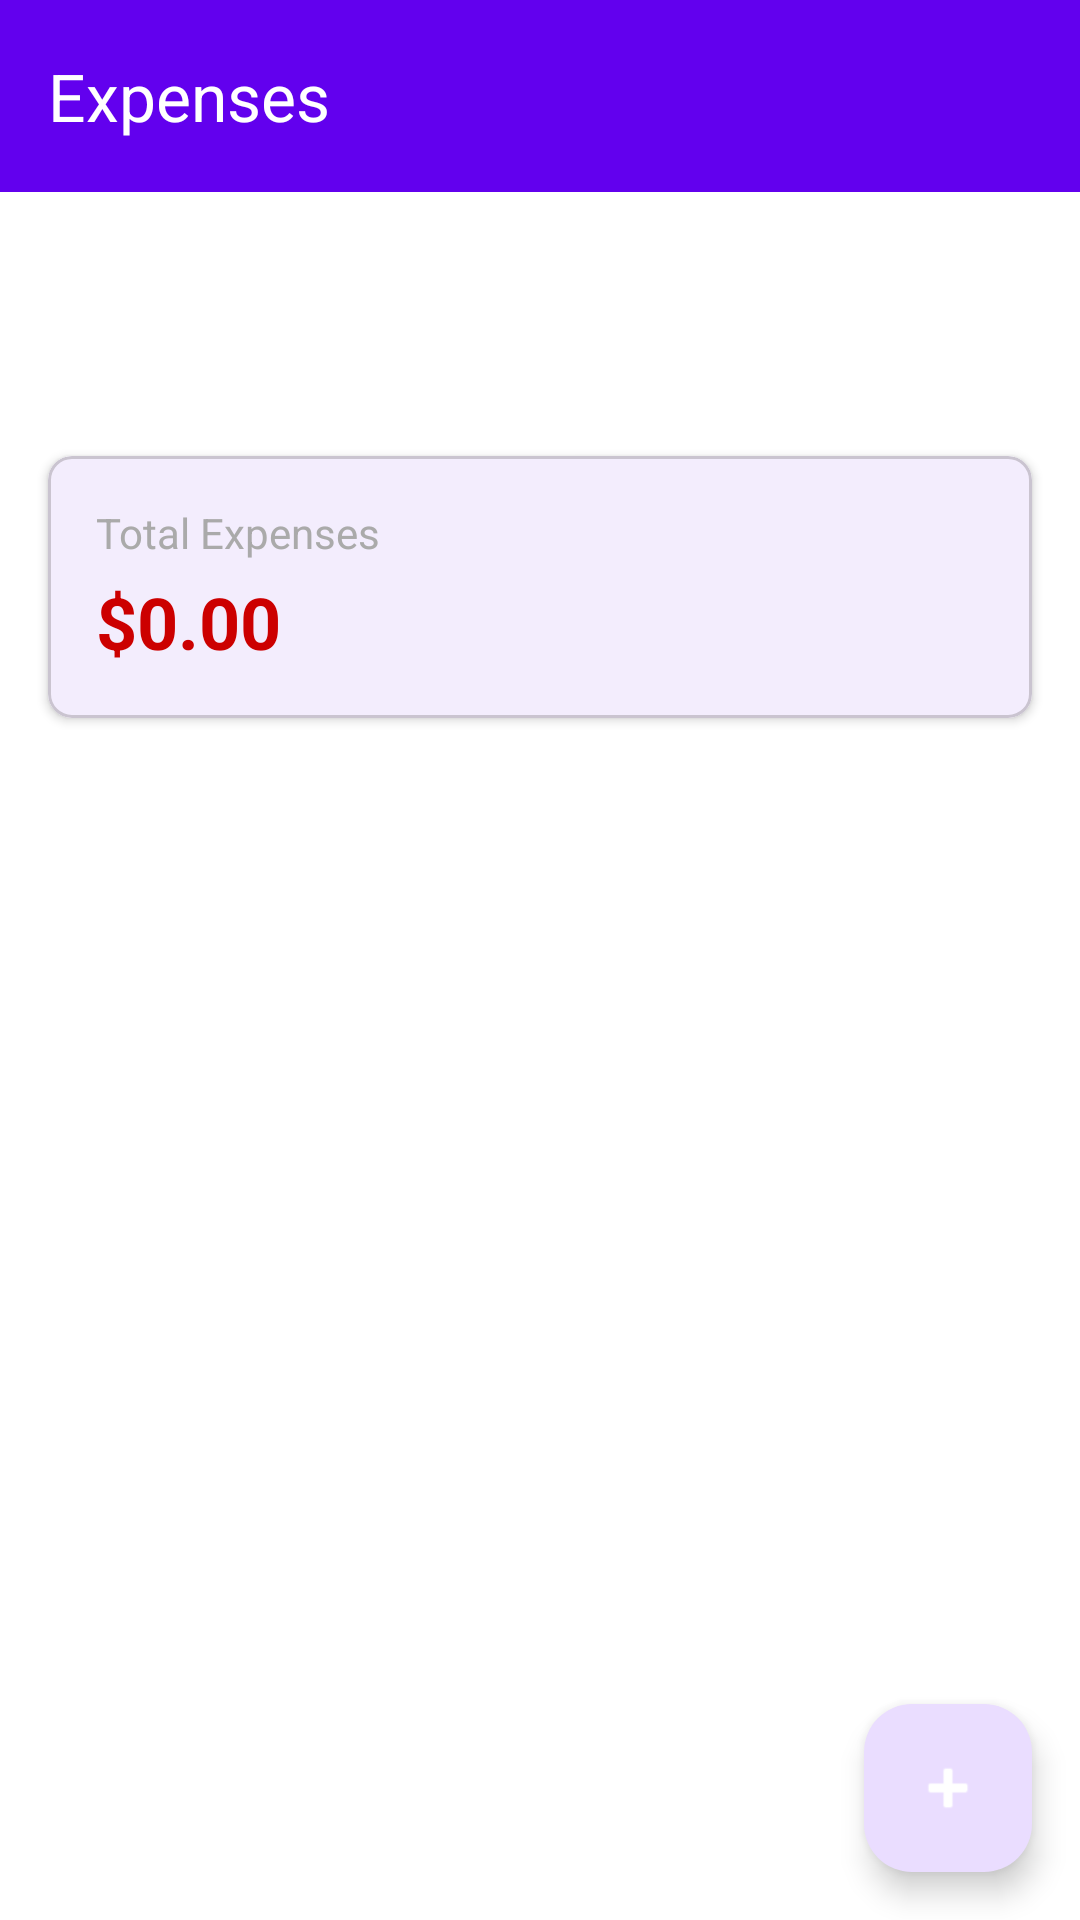

Named icons in this screenshot (1080×1920) and their bounding boxes, rect(x1, y1, x2, y2):
Add Expense: rect(864, 1704, 1032, 1872)
